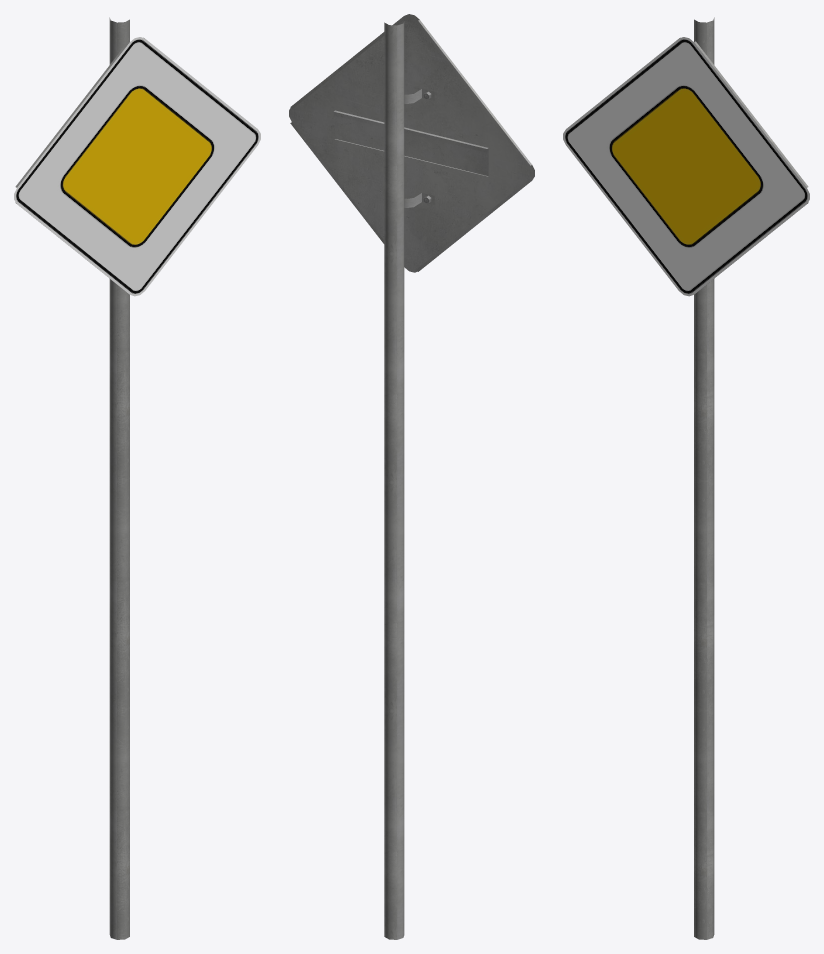
The model's file is sign_main.glb.
3 renders of one model, left to right at view 1: azimuth 30°, elevation 25°; view 2: azimuth 150°, elevation 25°; view 3: azimuth 330°, elevation 25°, orthographic.
Visible parts, largest first — view 1: MainRoad_MainRoad_0, __Pole_MetalBack_0; view 2: MainRoad_MetalBack_0, __Pole_MetalBack_0; view 3: MainRoad_MainRoad_0, __Pole_MetalBack_0.
Boxes of the visible parts, x1,y1,x2,y2 form: MainRoad_MainRoad_0: [14, 37, 260, 296]; __Pole_MetalBack_0: [109, 17, 129, 939]; MainRoad_MetalBack_0: [289, 14, 534, 272]; __Pole_MetalBack_0: [384, 21, 404, 939]; MainRoad_MainRoad_0: [563, 37, 809, 296]; __Pole_MetalBack_0: [694, 17, 714, 939].
Bounding box in the file's own units: 0.8163 × 2.9 × 0.1311.
Materials: 2 (2 with a texture image).
